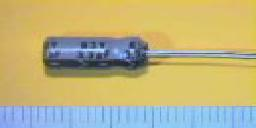Electrolytic-Capacitor: (42, 34, 256, 74)
